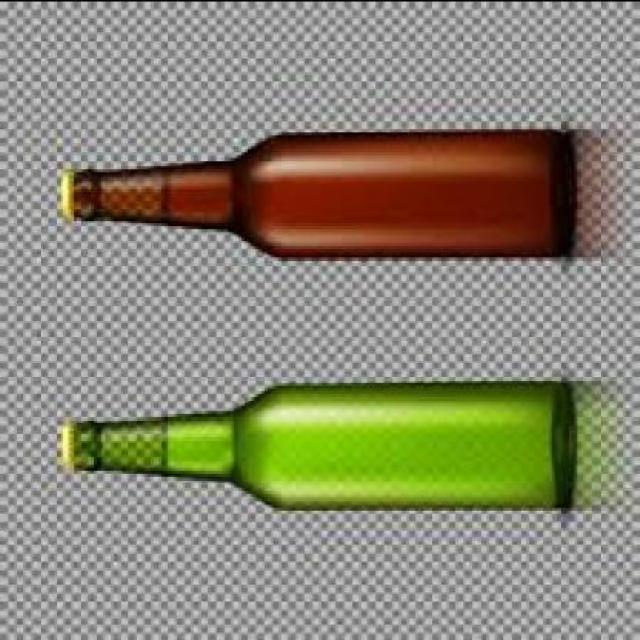GLASS: (74, 372, 572, 510), (71, 126, 569, 256)
METAL: (54, 416, 71, 470), (57, 162, 71, 216)
